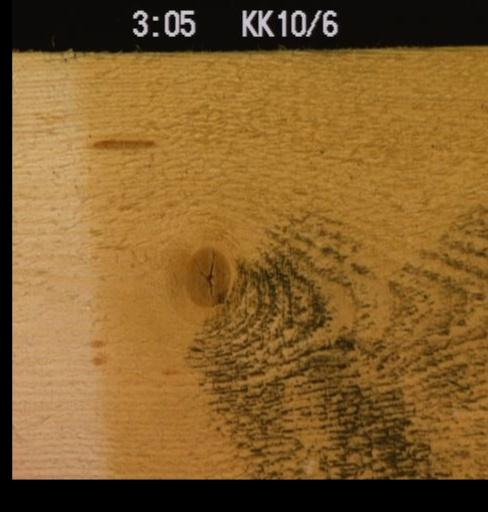sound_knot: (180, 244, 229, 306)
